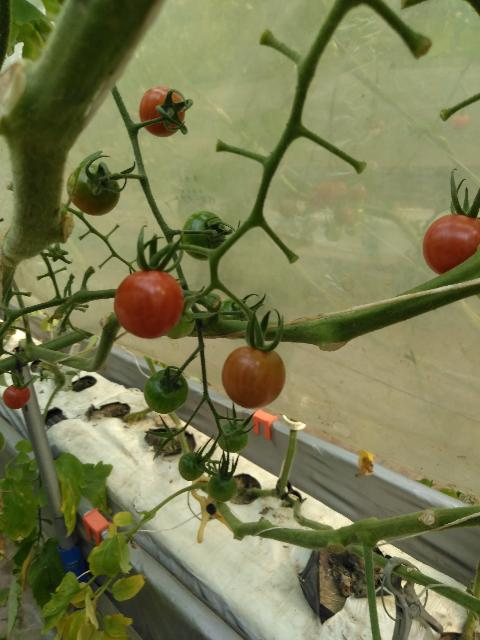l_fully_ripened: (114, 271, 185, 340), (422, 214, 480, 274), (2, 383, 31, 410)
l_green: (66, 162, 119, 217), (180, 210, 226, 261), (144, 369, 189, 415), (216, 421, 248, 453), (166, 306, 195, 340), (207, 471, 238, 502), (219, 298, 253, 321), (179, 452, 205, 482)
l_half_ripened: (221, 345, 286, 409), (138, 86, 185, 138)
